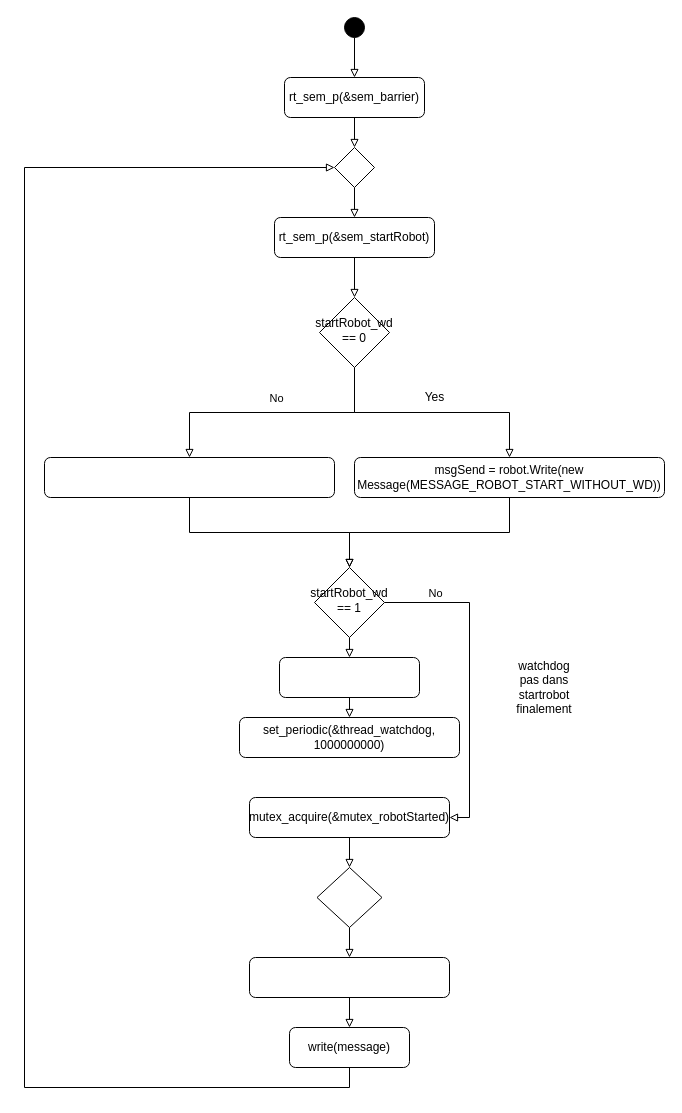
This 682x1113 diagram has some shape labels left out. Each missing label, with the centre of its shape:
"msgSend = robot.Write(new Message(MESSAGE_ROBOT_START_WITH_WD))" goes at point 189,477.
"mutex_release(&mutex_robotStarted)" goes at point 349,977.
"robotStarted = 1" goes at point 349,897.
"sem_p(&sem_watchDog)" goes at point 349,677.
